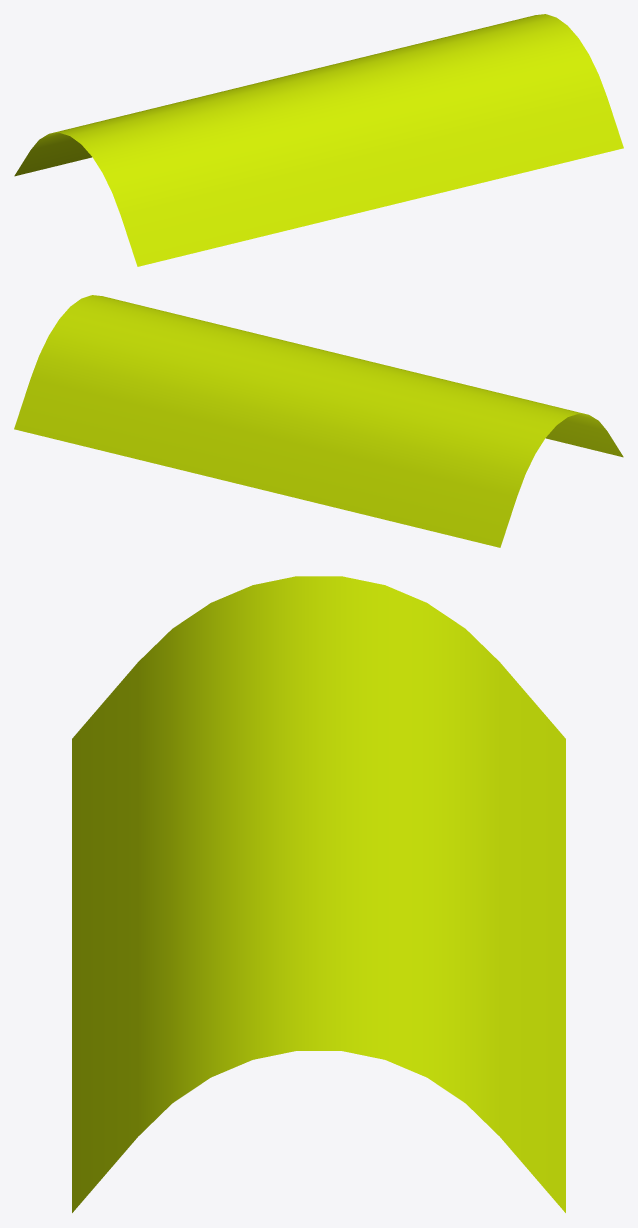
File: Hill_2.fbx
3 renders of one model, top to bottom at view 1: azimuth 30°, elevation 25°; view 2: azimuth 150°, elevation 25°; view 3: azimuth 270°, elevation 25°, orthographic. The views are drawn at different scales.
Visible parts, largest first — view 1: Hill_2; view 2: Hill_2; view 3: Hill_2.
Part boxes in pixels (x1,y1,x2,y2): Hill_2: (14, 14, 623, 266); Hill_2: (14, 295, 623, 547); Hill_2: (72, 576, 565, 1212).
Bounding box in the file's own units: 2500 × 400 × 1100.
